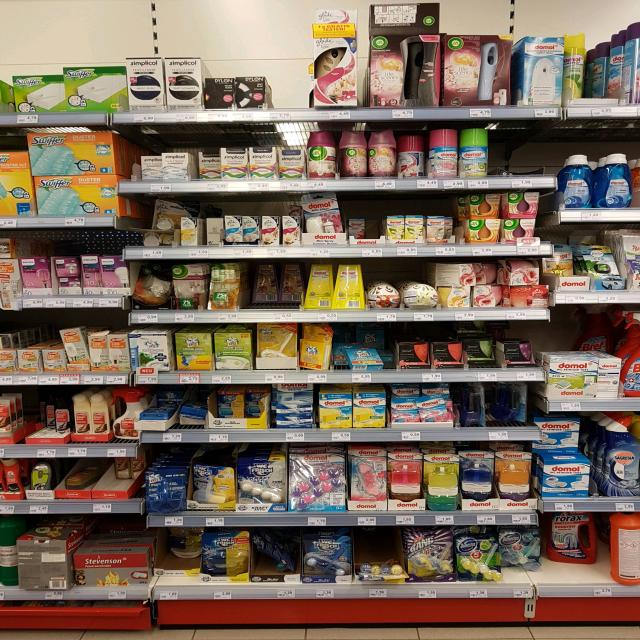empty: (270, 31, 312, 111), (488, 130, 544, 180)
